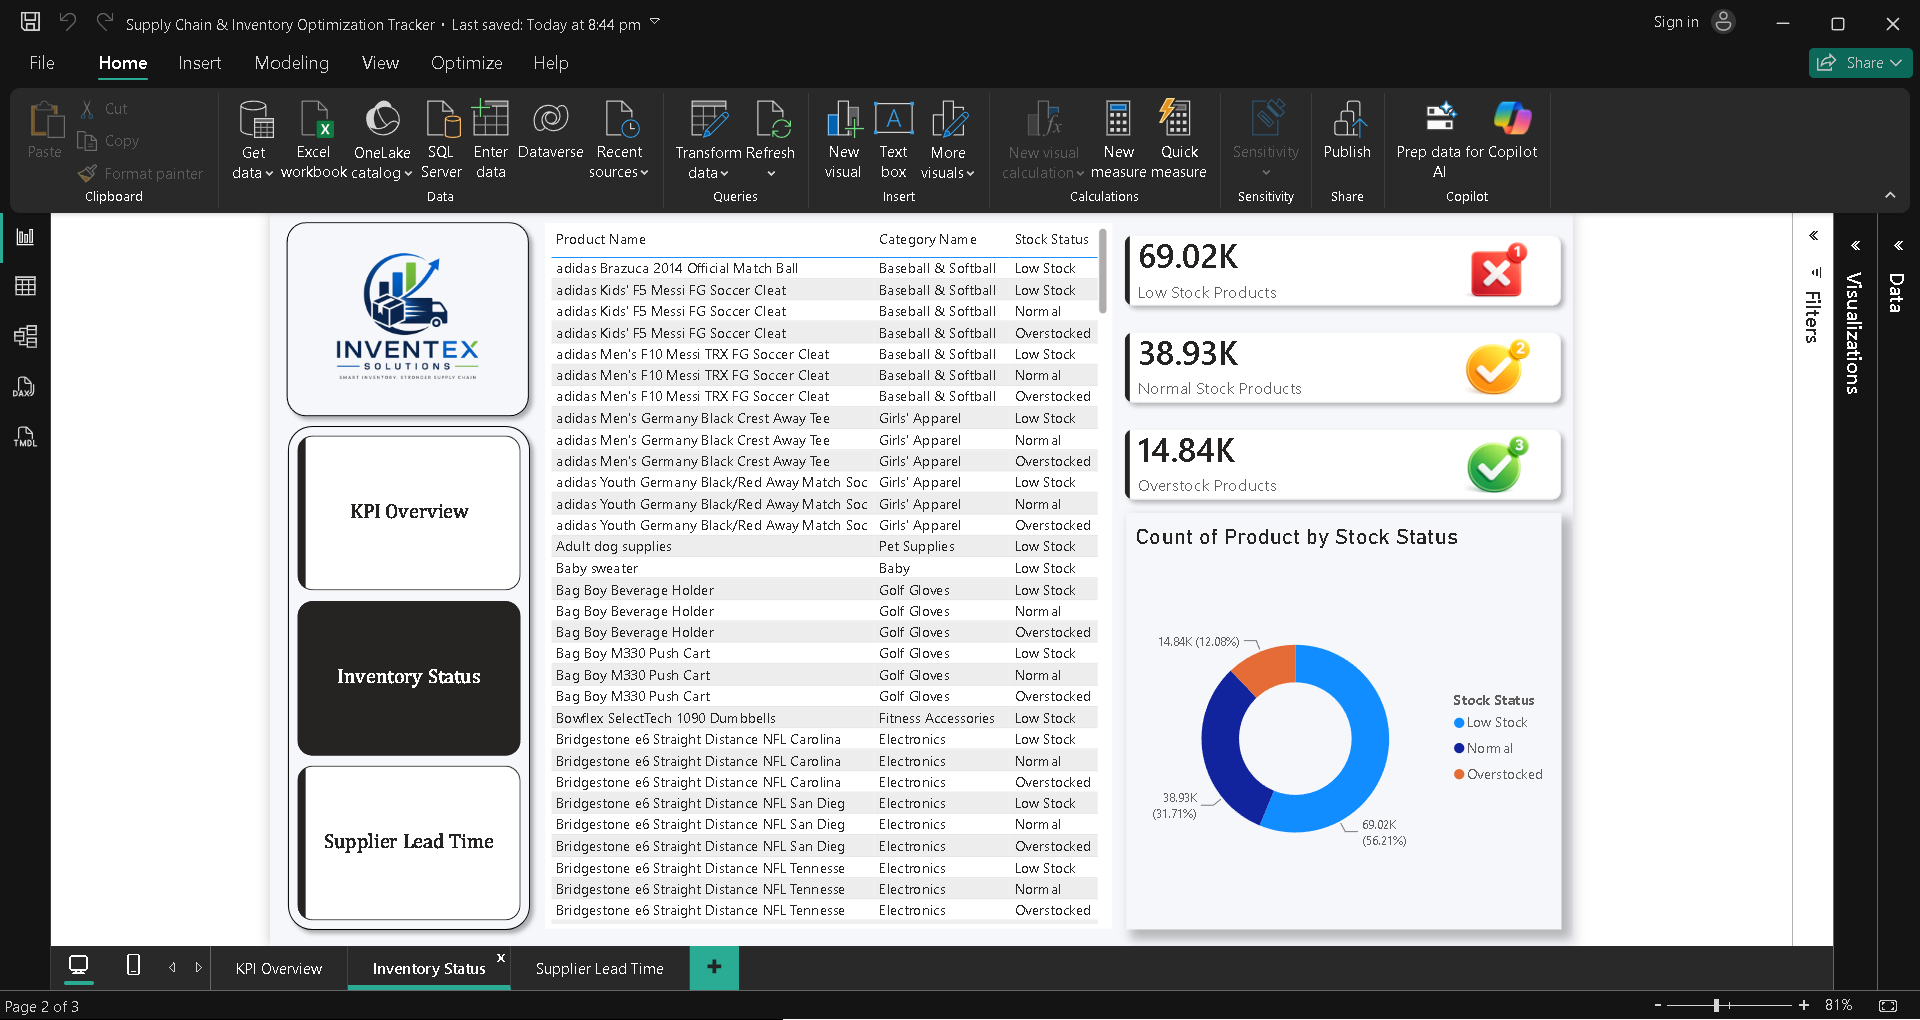

This screenshot's page, from the dashboard's own definition file:
{"tool":"powerbi","page":{"name":"Inventory Status","canvas":[1280,720],"ordinal":1},"visuals":[{"type":"shape","box":[7.1,0,255.7,208.6],"z":0},{"type":"image","box":[23.3,16.7,222.7,174],"z":1000},{"type":"shape","box":[8.6,200,255.7,512.9],"z":2000},{"type":"pageNavigator","box":[27,219,219,476],"z":3000},{"type":"tableEx","fields":{"Values":["supply_chain_db supply_chain_data.Product Name","supply_chain_db supply_chain_data.Category Name","supply_chain_db supply_chain_data.Stock Status"]},"box":[270,10,557.1,692.9],"z":4000},{"type":"cardVisual","fields":{"Data":["supply_chain_db supply_chain_data.Low Stock Products","supply_chain_db supply_chain_data.Normal Stock Products","supply_chain_db supply_chain_data.OverStock Products"]},"box":[827.1,10,452.9,284.3],"z":5000},{"type":"donutChart","fields":{"Category":["supply_chain_db supply_chain_data.Stock Status"],"Y":["CountNonNull(supply_chain_db supply_chain_data.Product Name)"]},"box":[840,294.3,427.1,408.6],"z":6000}]}

Visuals, with their boxes on the page's 1280x720 design canvas (x1, y1, x2, y2). These are canvas units, not pixel positions in the 1920x1020 screenshot, which may show the page scaled, cropped or inside an application window:
shape: (7,0,263,209)
image: (23,17,246,191)
shape: (9,200,264,713)
pageNavigator: (27,219,246,695)
tableEx - supply_chain_db supply_chain_data.Product Name x supply_chain_db supply_chain_data.Category Name: (270,10,827,703)
cardVisual - supply_chain_db supply_chain_data.Low Stock Products x supply_chain_db supply_chain_data.Normal Stock Products: (827,10,1280,294)
donutChart - supply_chain_db supply_chain_data.Stock Status x CountNonNull(supply_chain_db supply_chain_data.Product Name): (840,294,1267,703)
